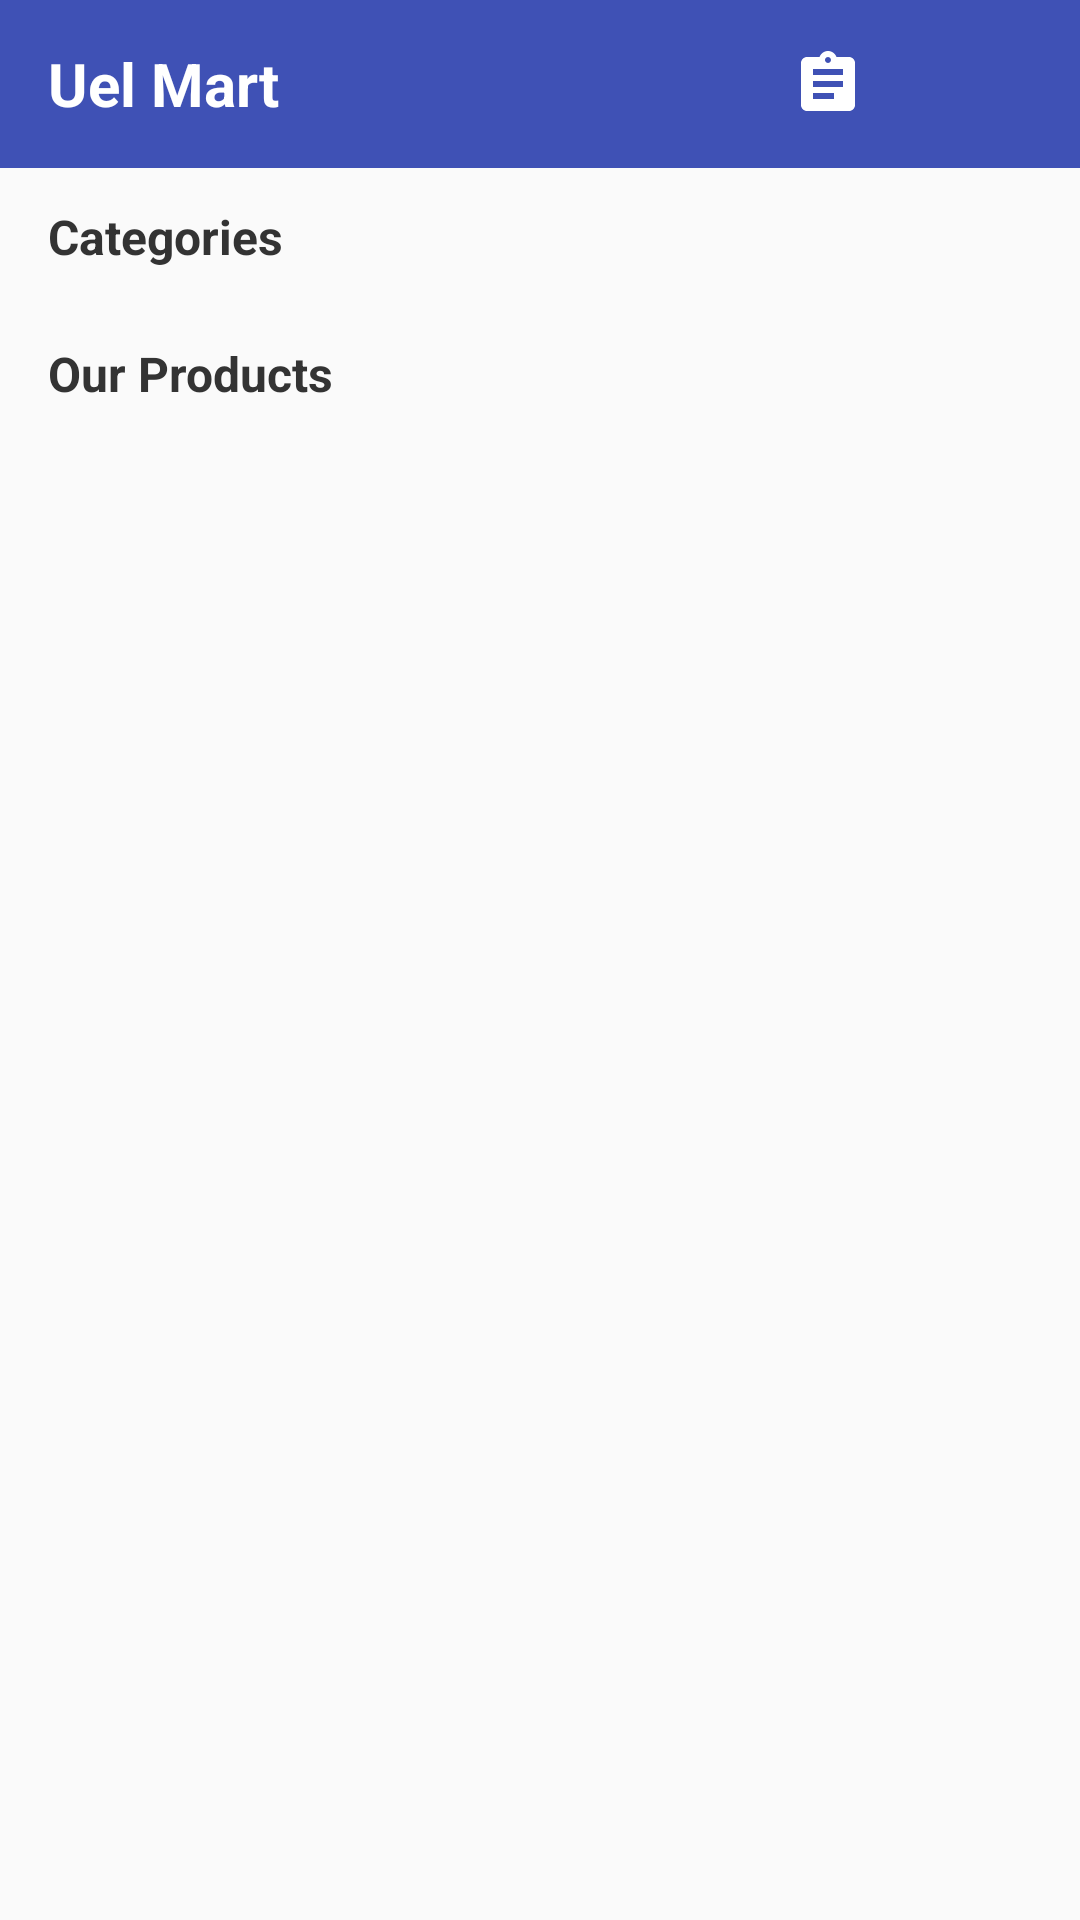

Icon bounding boxes for this 1080px×1920px phone screenshot, format bbox(x1, y1, x2, y2):
My Orders: bbox(801, 51, 855, 111)
